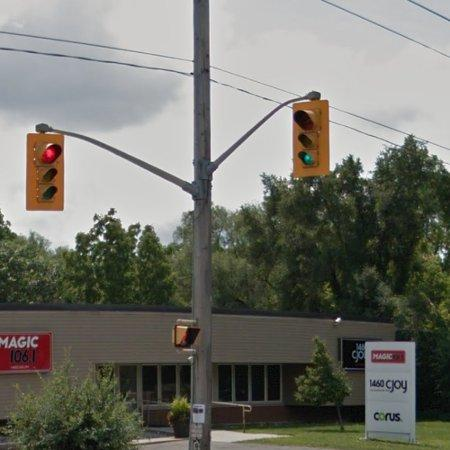traffic lights: (26, 133, 64, 211), (293, 100, 330, 176)
